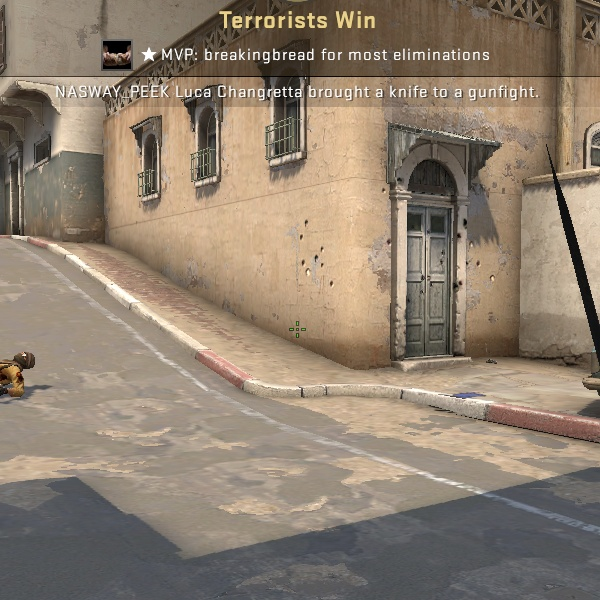t_body: (1, 351, 36, 397)
t_head: (14, 351, 36, 369)
